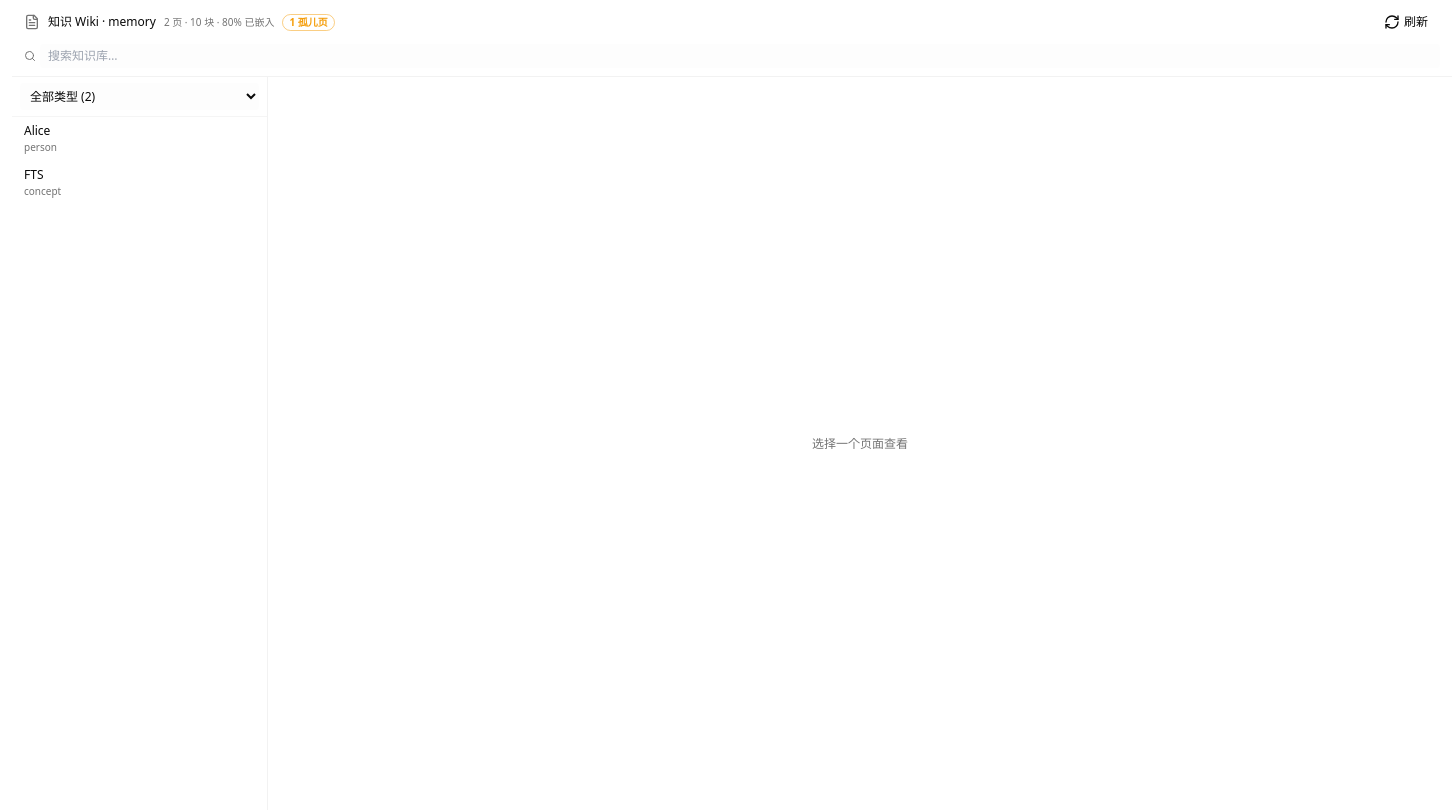
Scenario: WikiView › version drawer lists versions and reverts
Click the text "Alice".
click(37, 130)  # box x1=24 y1=122 x2=50 y2=139
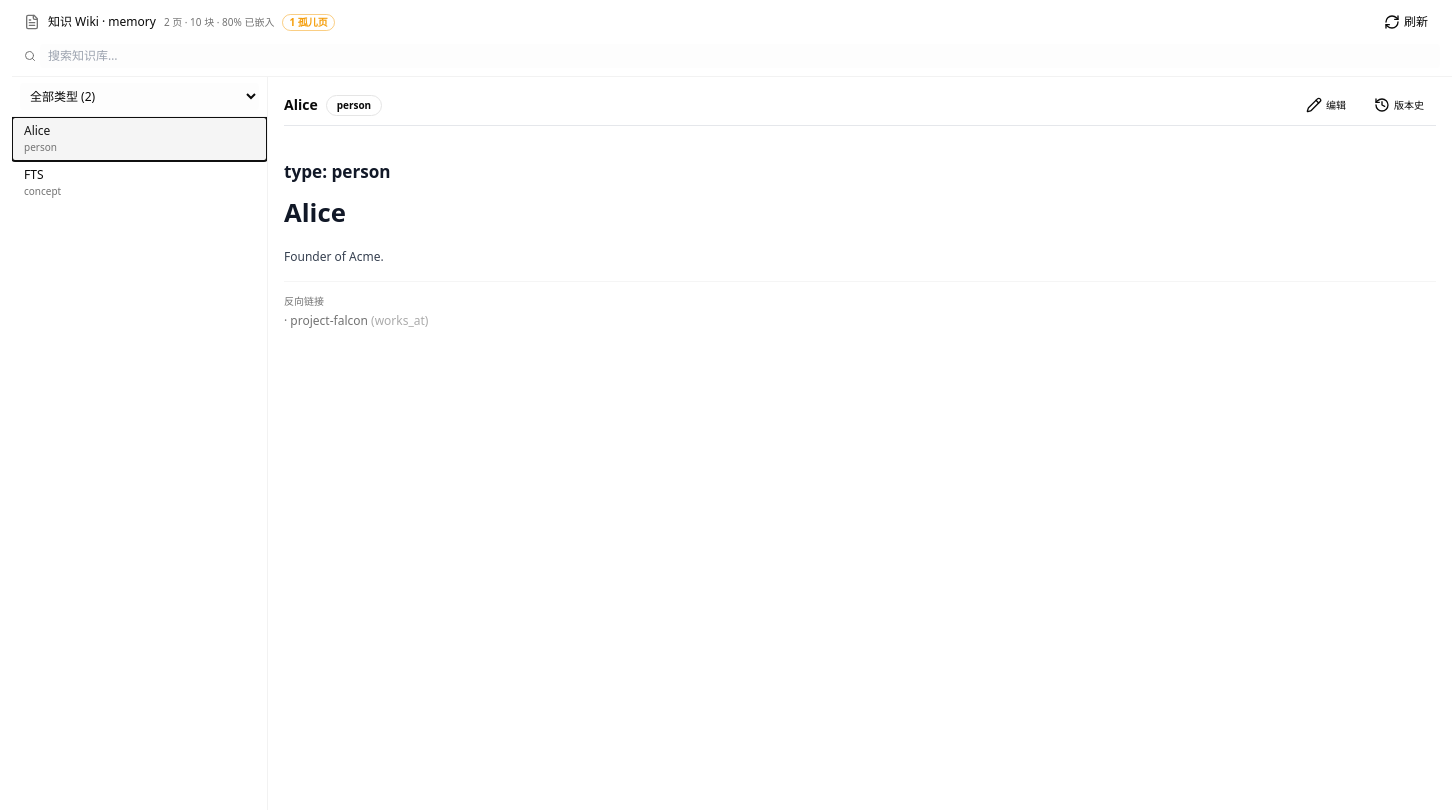
Click the button with test id "wiki-versions-btn".
click(1399, 105)  # box x1=1362 y1=93 x2=1436 y2=117
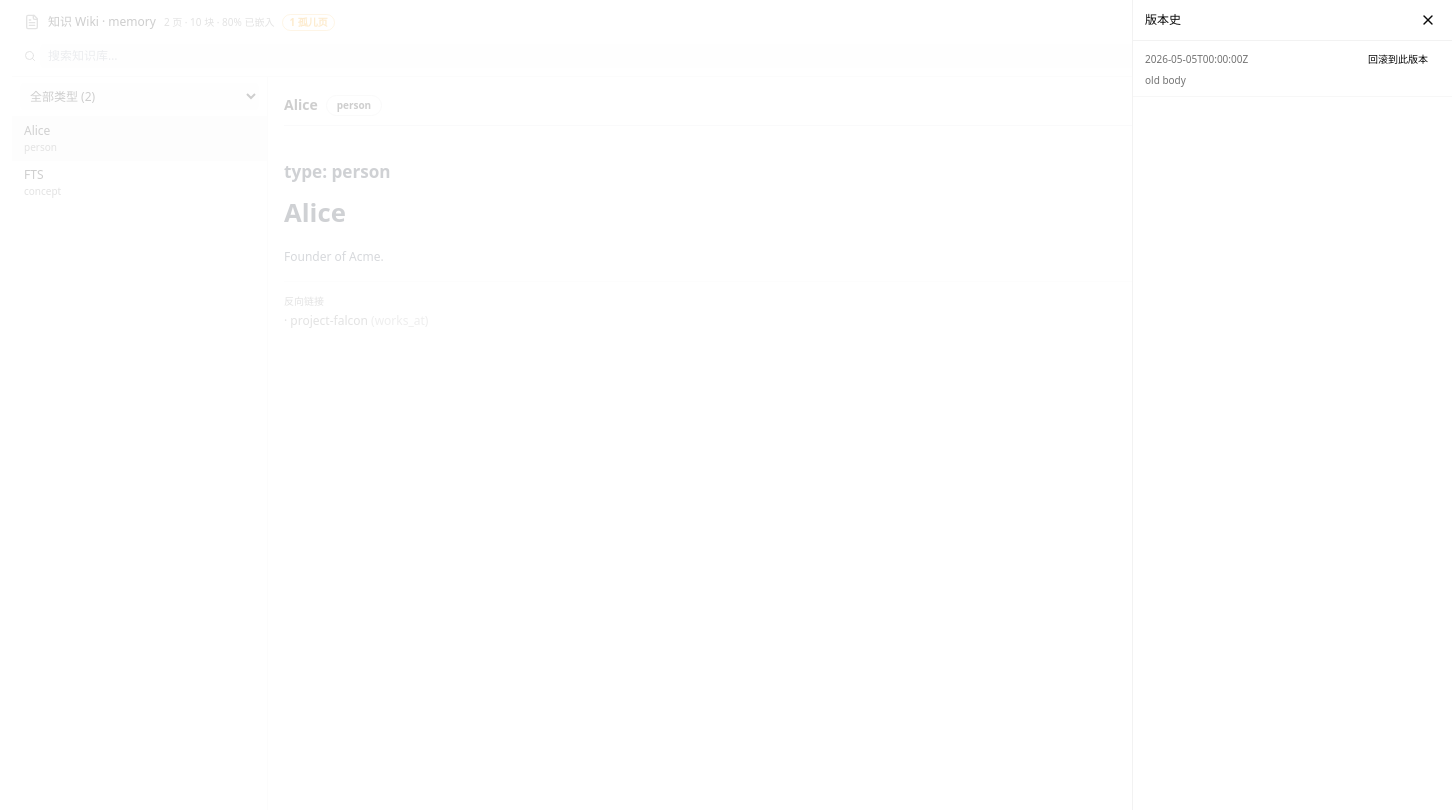
Check: the element with test id "wiki-version-drawer" shows "回滚到此版本"
Click the button "回滚到此版本".
click(1398, 59)  # box x1=1356 y1=49 x2=1440 y2=69
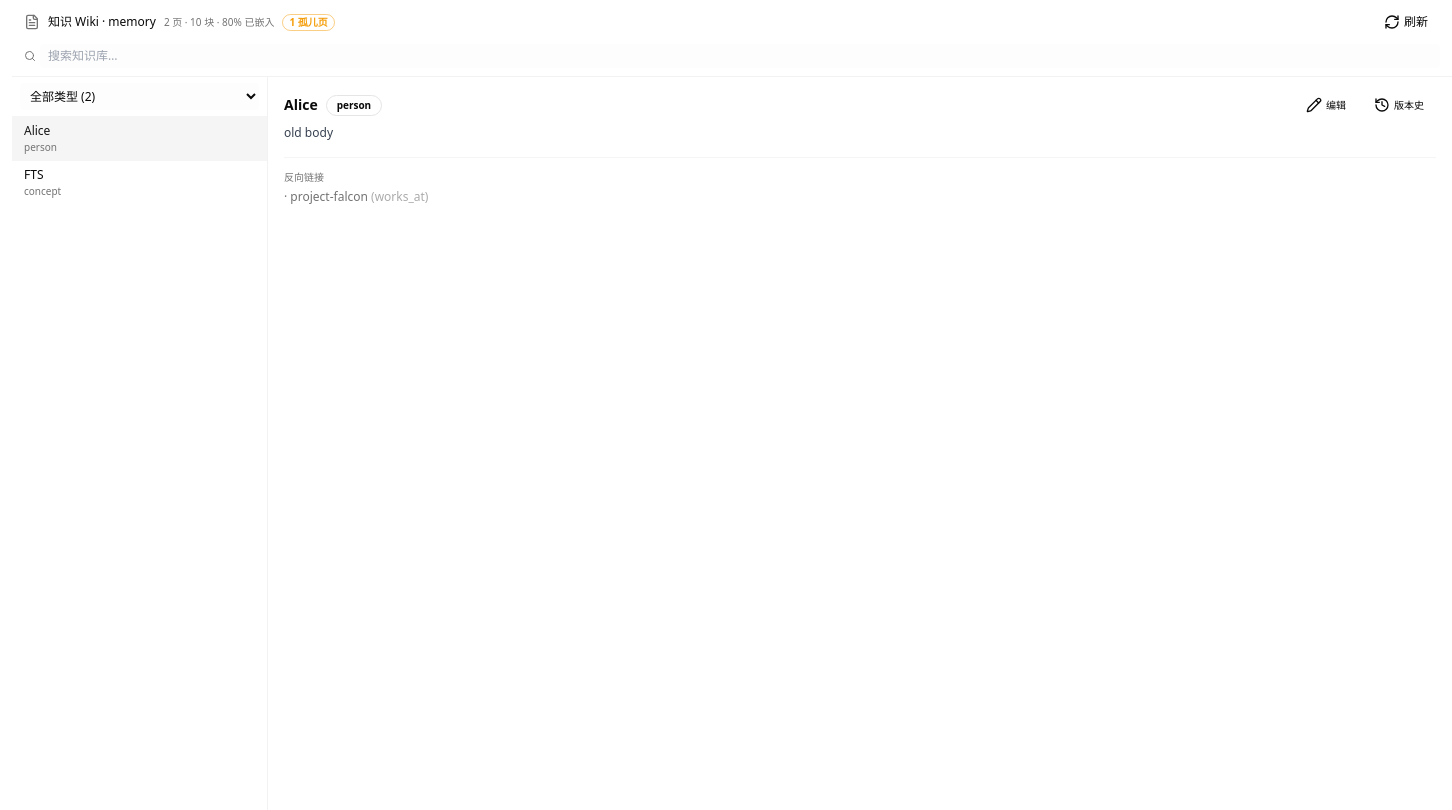
Check: the element with test id "wiki-detail-body" reads "old body", box x1=284 y1=124 x2=333 y2=141
